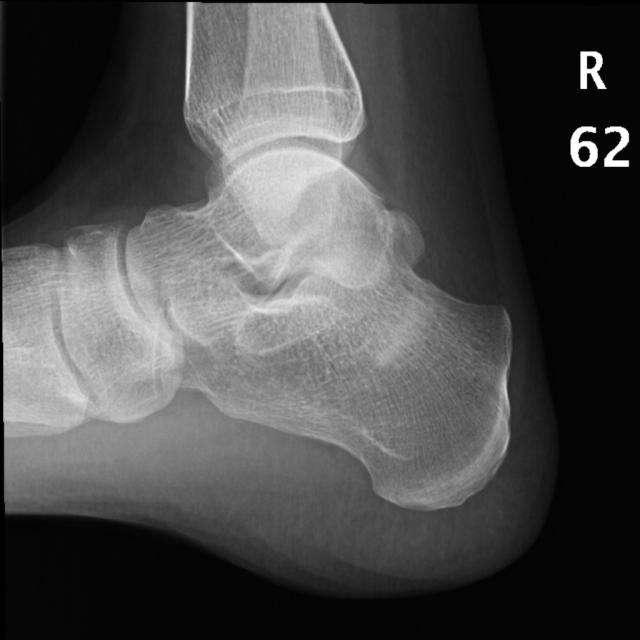fracture: (36, 228, 92, 316)
